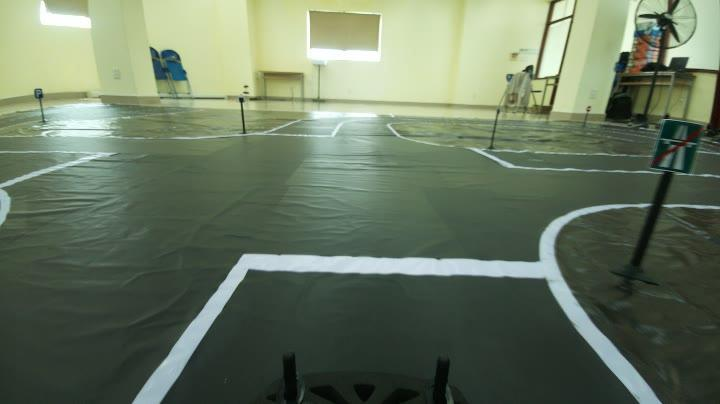highway_exit: (646, 108, 706, 175)
